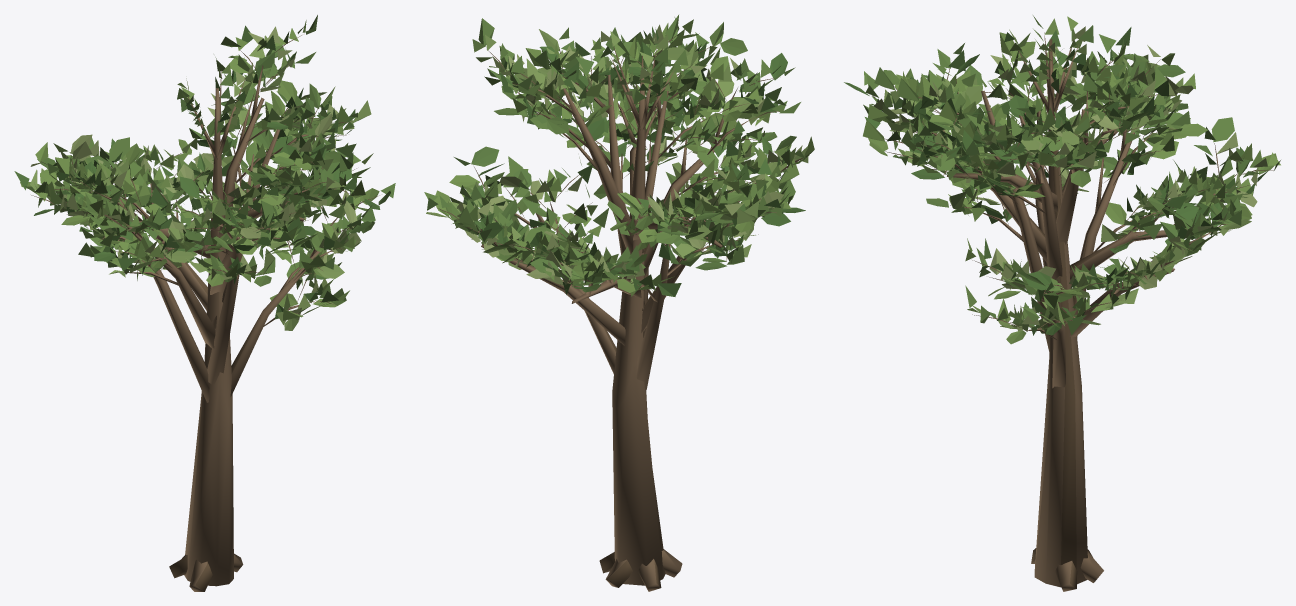
Rendered from tree_elm_rebuilt_lod2.glb.
The picture shows the model from 3 angles, left to right: view 1: azimuth 30°, elevation 25°; view 2: azimuth 150°, elevation 25°; view 3: azimuth 270°, elevation 25°; orthographic projection. The views are drawn at different scales.
Visible parts, largest first — view 1: TREE_01_Broadleaf_Elm__SCULPTED_LEAVES_NEW_V2, TREE_01_Broadleaf_Elm__BARK_AND_BRANCHES_NEW_V2; view 2: TREE_01_Broadleaf_Elm__SCULPTED_LEAVES_NEW_V2, TREE_01_Broadleaf_Elm__BARK_AND_BRANCHES_NEW_V2; view 3: TREE_01_Broadleaf_Elm__SCULPTED_LEAVES_NEW_V2, TREE_01_Broadleaf_Elm__BARK_AND_BRANCHES_NEW_V2.
Part boxes in pixels (box(x1,y1,x2,y2)): TREE_01_Broadleaf_Elm__SCULPTED_LEAVES_NEW_V2: box(14, 15, 395, 330); TREE_01_Broadleaf_Elm__BARK_AND_BRANCHES_NEW_V2: box(31, 35, 379, 591); TREE_01_Broadleaf_Elm__SCULPTED_LEAVES_NEW_V2: box(424, 15, 814, 296); TREE_01_Broadleaf_Elm__BARK_AND_BRANCHES_NEW_V2: box(437, 32, 802, 591); TREE_01_Broadleaf_Elm__SCULPTED_LEAVES_NEW_V2: box(844, 15, 1280, 344); TREE_01_Broadleaf_Elm__BARK_AND_BRANCHES_NEW_V2: box(872, 32, 1273, 591).
Bounding box in the file's own units: 2.97 × 4.26 × 2.99.
